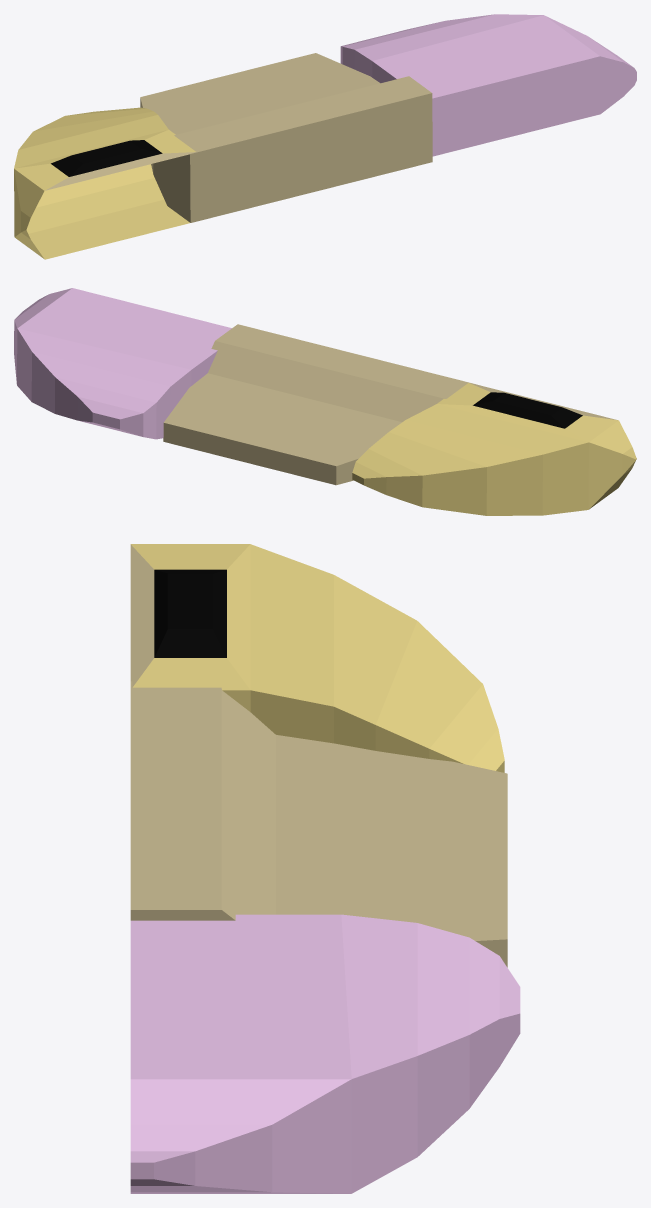
The model's file is Trilobite3.glb.
3 views of the same model, one above another, from view 1: azimuth 30°, elevation 25°; view 2: azimuth 150°, elevation 25°; view 3: azimuth 270°, elevation 25° (orthographic). The views are drawn at different scales.
Parts seen in each view (by area): view 1: Trilobite3; view 2: Trilobite3; view 3: Trilobite3.
Boxes of the visible parts, x1=… form: Trilobite3: x1=14, y1=14, x2=636, y2=259; Trilobite3: x1=14, y1=288, x2=636, y2=515; Trilobite3: x1=130, y1=544, x2=520, y2=1193.
Bounding box in the file's own units: 1.62 × 0.1972 × 0.4555.
